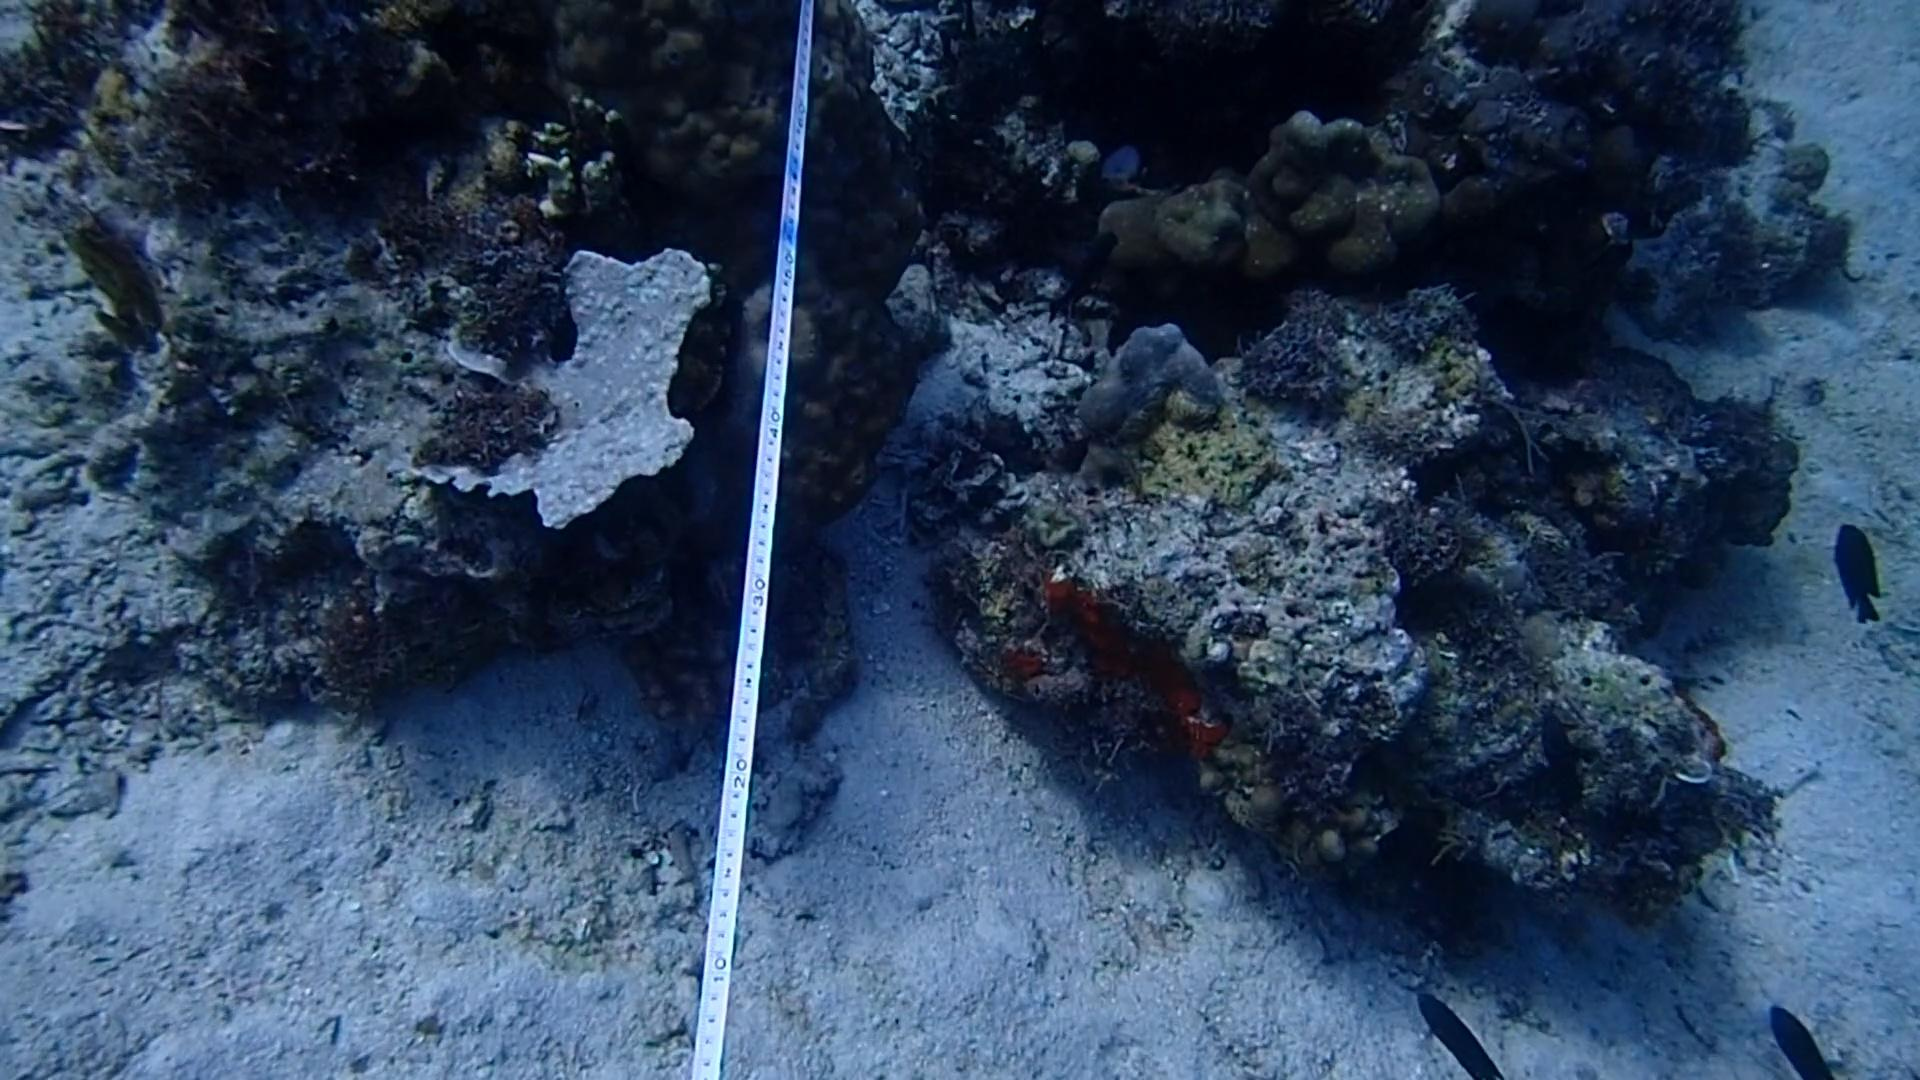Dark Fish: (1818, 513, 1886, 634), (1411, 982, 1494, 1080), (1759, 989, 1840, 1080)
